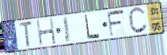C: (128, 6, 149, 35)
F: (106, 8, 127, 39)
H: (35, 17, 58, 47)
I: (63, 15, 72, 44)
L: (84, 14, 101, 41)
T: (18, 20, 34, 49)
